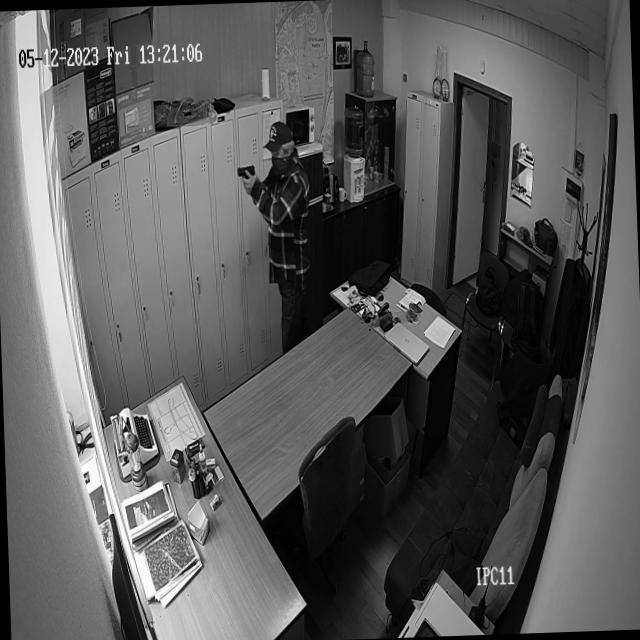gun: (236, 162, 263, 186)
person with a gun: (248, 105, 321, 354)
